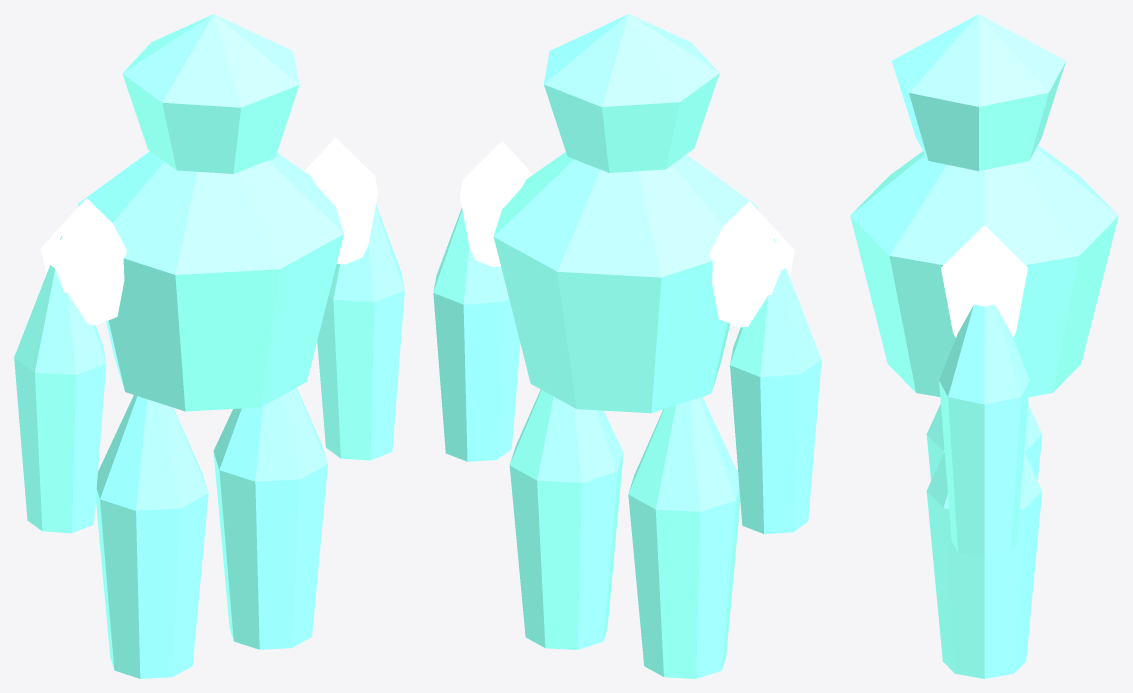
The model's file is deep-fracture-creature-StoneSentinel-spirit.glb.
3 views of the same model, side by side, from view 1: azimuth 30°, elevation 25°; view 2: azimuth 150°, elevation 25°; view 3: azimuth 270°, elevation 25° (orthographic). The views are drawn at different scales.
Visible parts, largest first — view 1: chest-block, leg-left, leg-right, head-block, arm-left, arm-right, armor-core-left, armor-core-right; view 2: chest-block, leg-left, leg-right, head-block, arm-left, arm-right, armor-core-left, armor-core-right; view 3: chest-block, head-block, arm-right, leg-right, armor-core-right, leg-left.
Part boxes in pixels (x1=…): chest-block: x1=78, y1=151, x2=343, y2=411; leg-left: x1=96, y1=395, x2=208, y2=678; leg-right: x1=213, y1=387, x2=327, y2=649; head-block: x1=122, y1=14, x2=299, y2=173; arm-left: x1=14, y1=235, x2=106, y2=533; arm-right: x1=317, y1=205, x2=404, y2=460; armor-core-left: x1=41, y1=198, x2=126, y2=324; armor-core-right: x1=304, y1=137, x2=378, y2=264; chest-block: x1=493, y1=152, x2=757, y2=413; leg-left: x1=628, y1=396, x2=740, y2=678; leg-right: x1=509, y1=389, x2=623, y2=649; head-block: x1=543, y1=14, x2=719, y2=172; arm-left: x1=730, y1=238, x2=821, y2=534; arm-right: x1=433, y1=208, x2=520, y2=461; armor-core-left: x1=709, y1=201, x2=794, y2=327; armor-core-right: x1=460, y1=141, x2=532, y2=266; chest-block: x1=850, y1=145, x2=1118, y2=396; head-block: x1=891, y1=14, x2=1065, y2=170; arm-right: x1=939, y1=304, x2=1029, y2=558; leg-right: x1=926, y1=452, x2=1042, y2=678; armor-core-right: x1=941, y1=225, x2=1027, y2=337; leg-left: x1=926, y1=403, x2=1042, y2=480.
Bounding box in the file's own units: 2.28 × 3.74 × 1.44.
